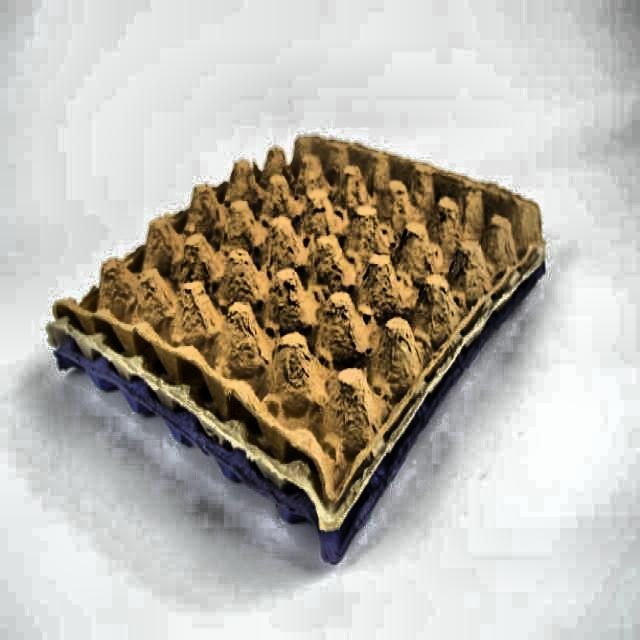cardboard: (46, 135, 547, 568)
